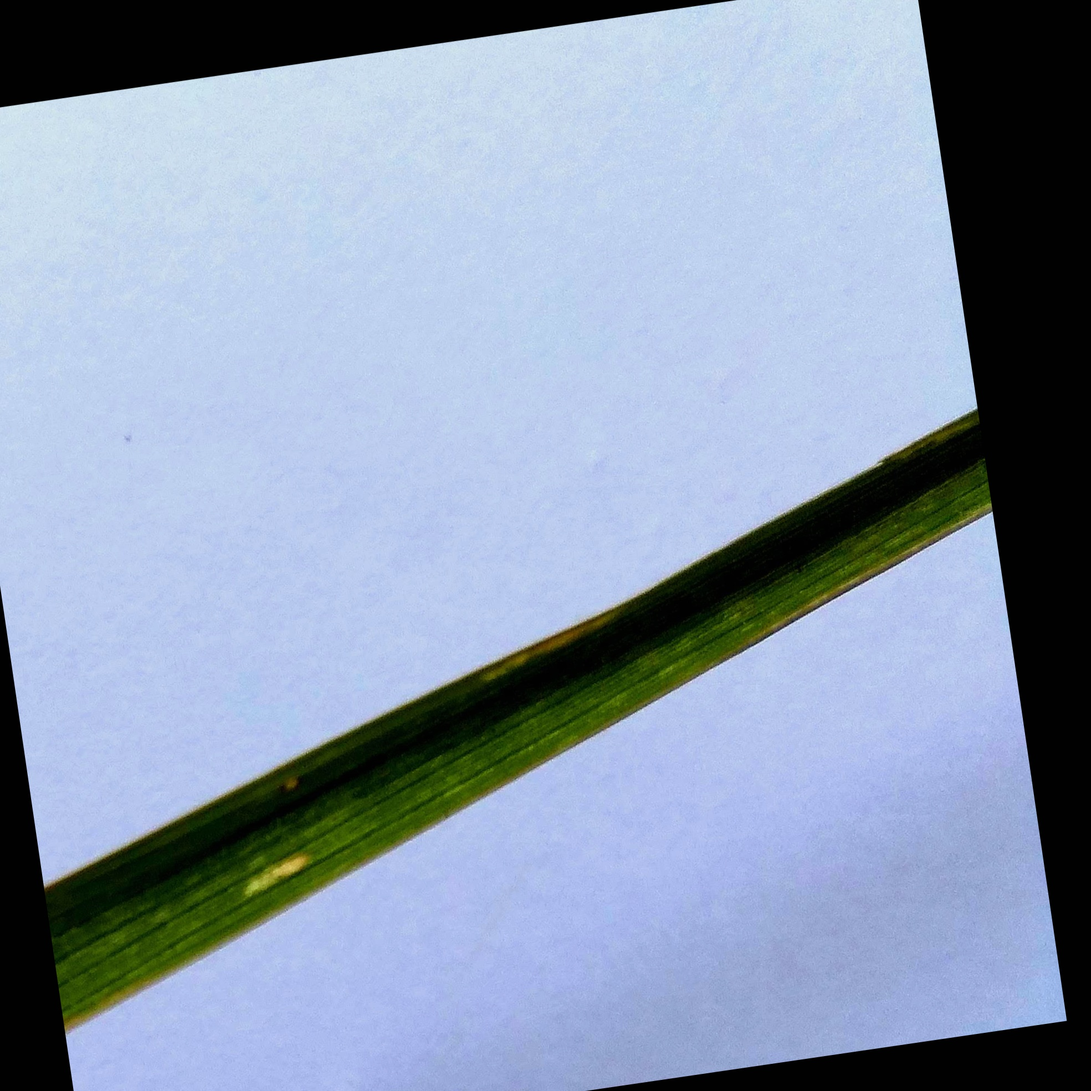Brown_Spot: (231, 852, 312, 890)
